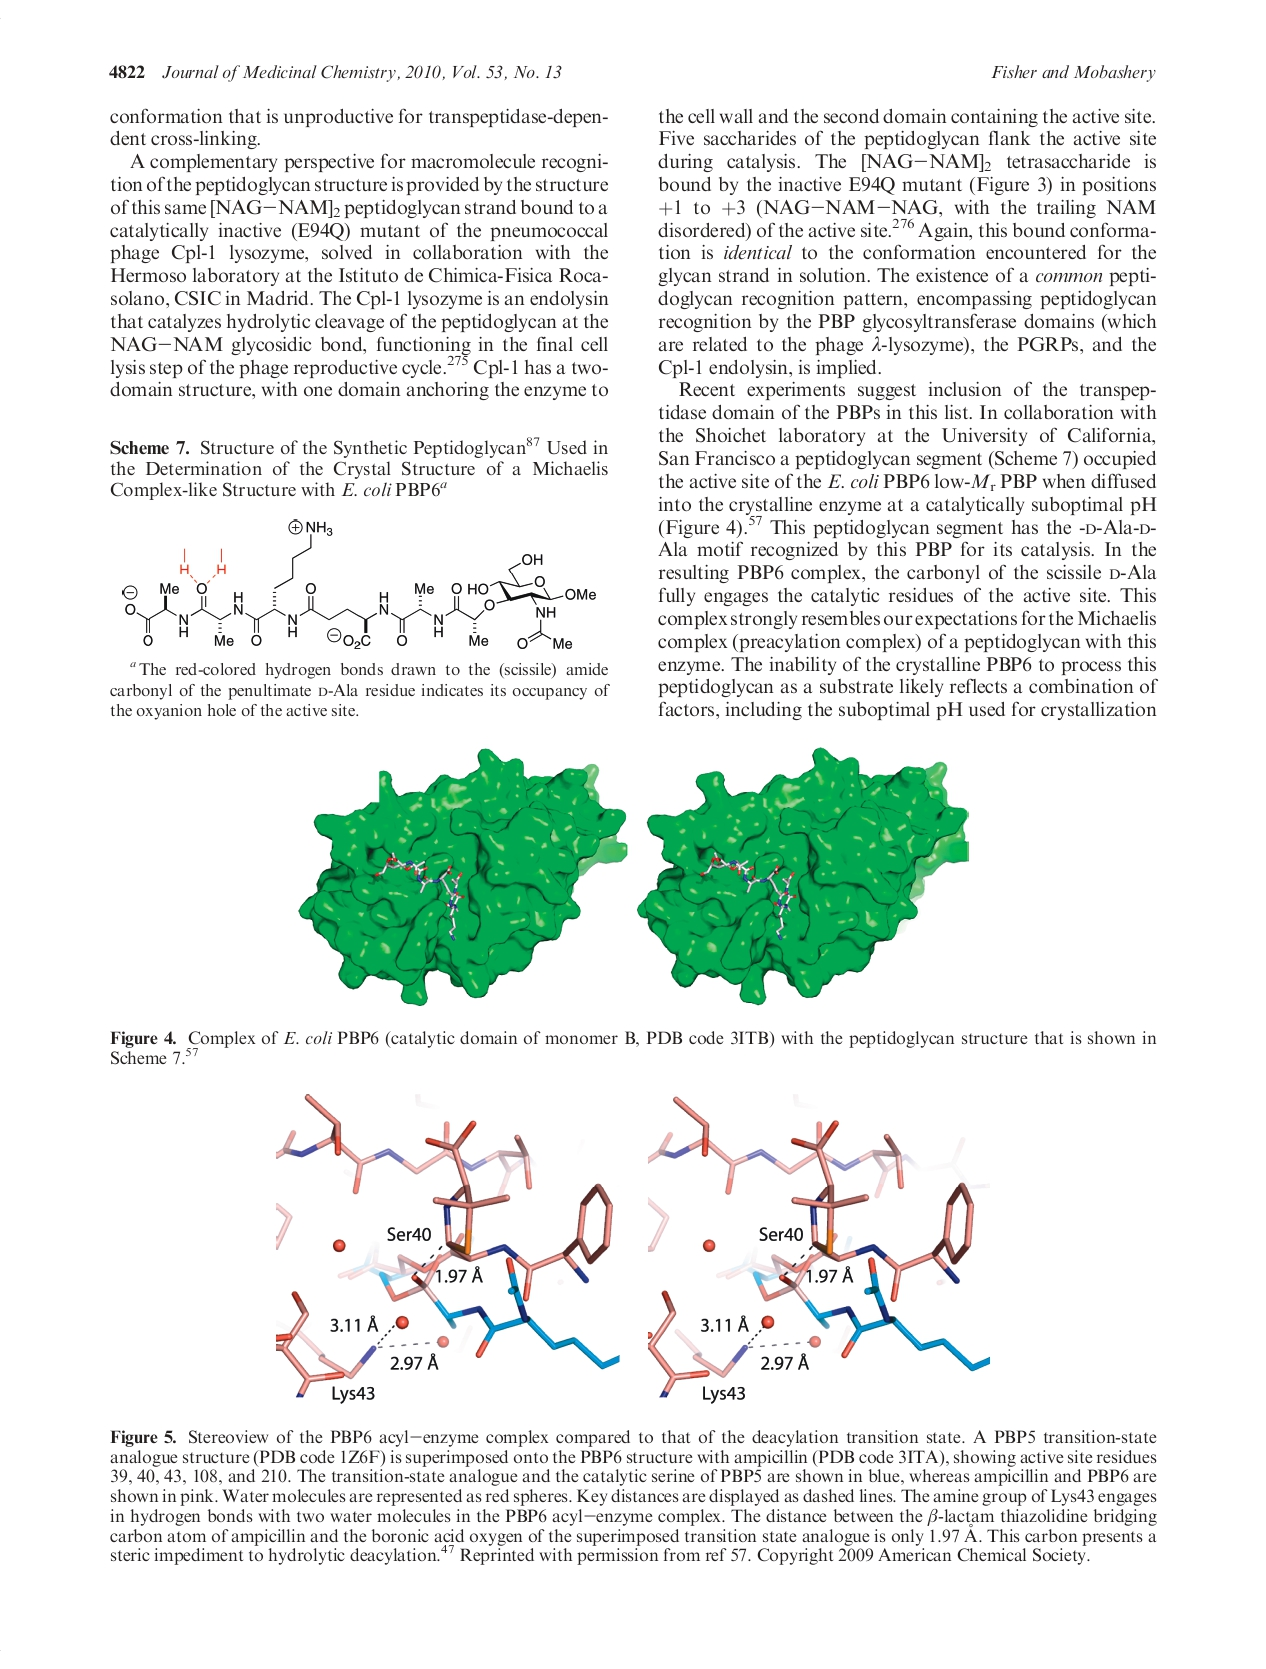exist_molecular: (113, 519, 597, 660)
